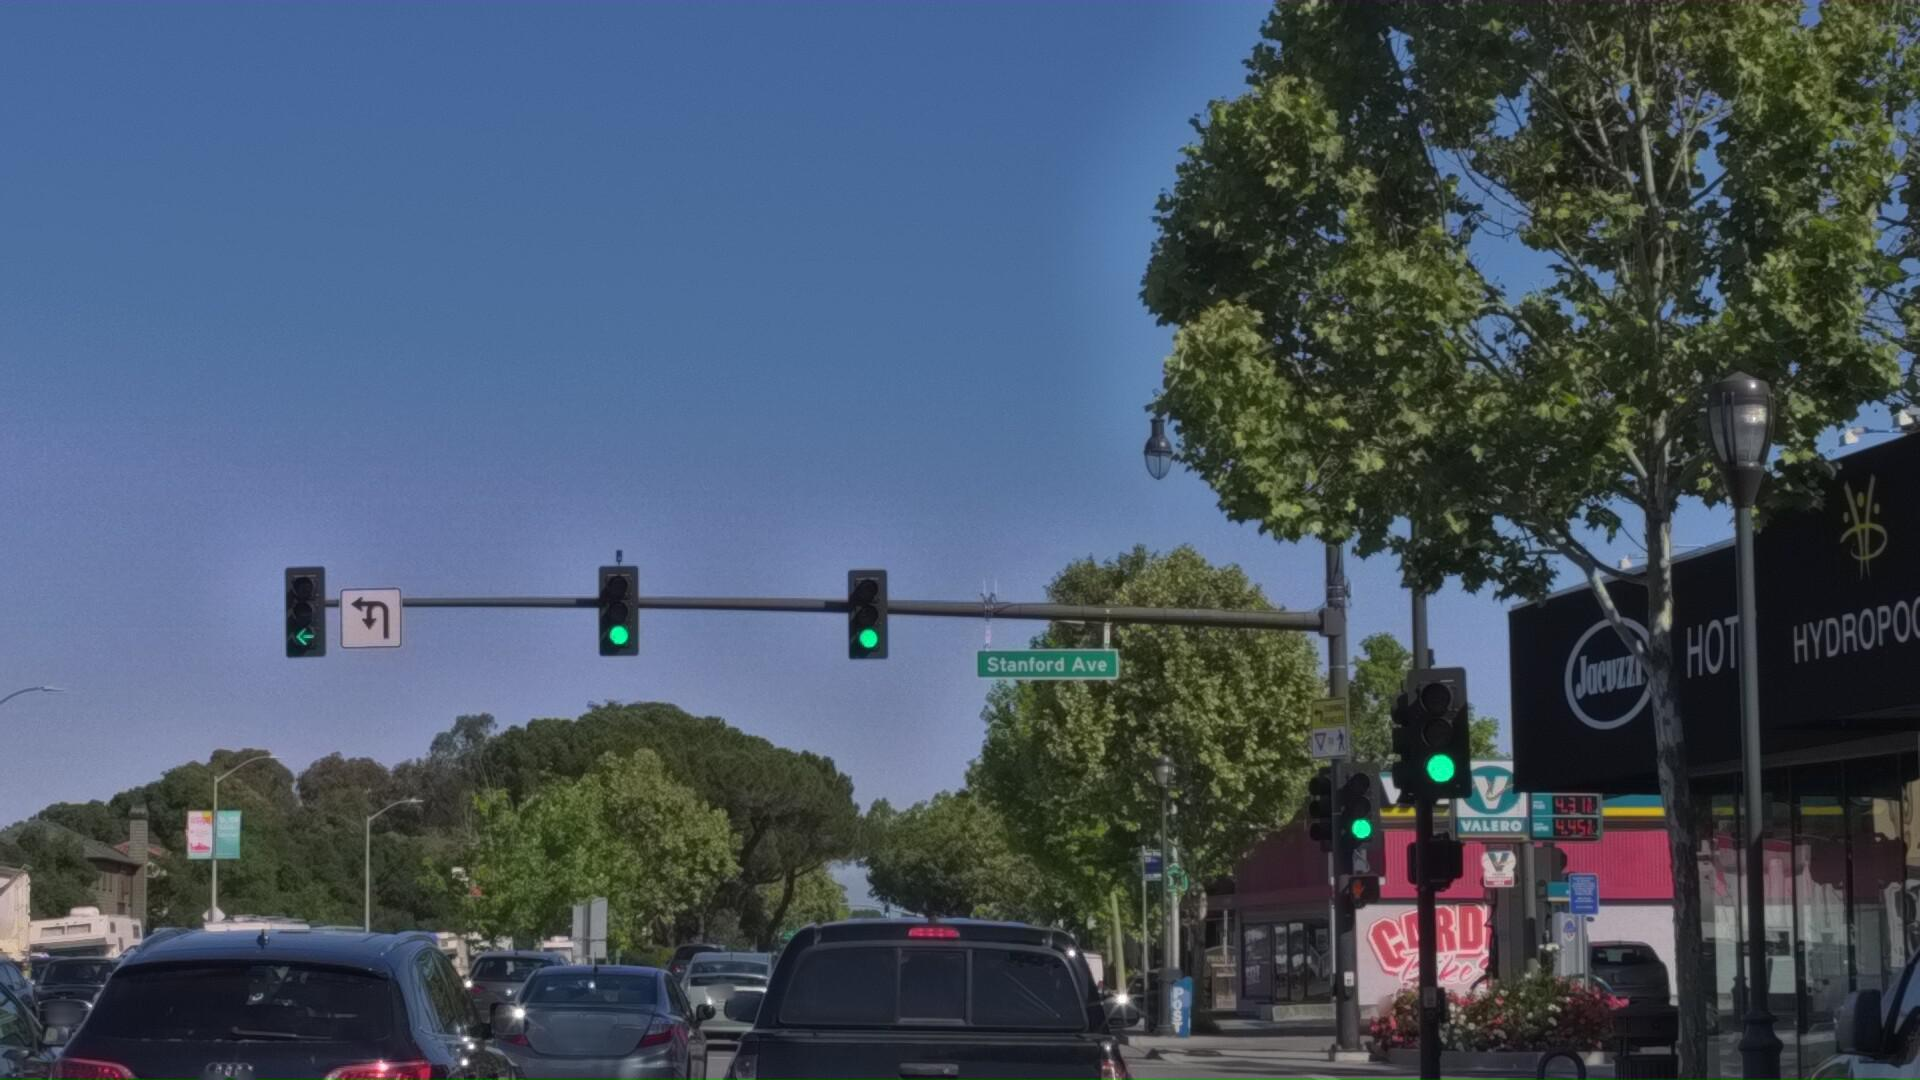car: (1687, 694, 1920, 1080), (13, 976, 554, 1080), (698, 978, 1145, 1080), (294, 1004, 514, 1080), (0, 975, 121, 1080), (459, 1040, 732, 1080), (1536, 1015, 1677, 1080), (13, 1033, 160, 1080), (909, 1033, 1048, 1080), (442, 1040, 604, 1080), (658, 1052, 791, 1080)
truck: (0, 894, 54, 1080)
